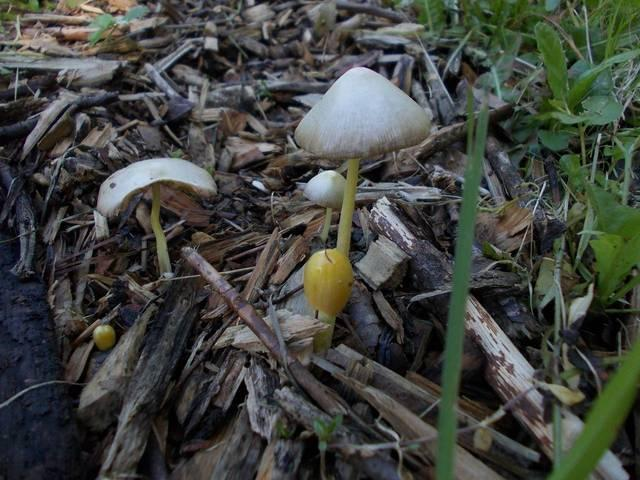Edible Mushroom: (293, 65, 431, 257), (94, 156, 217, 276)
